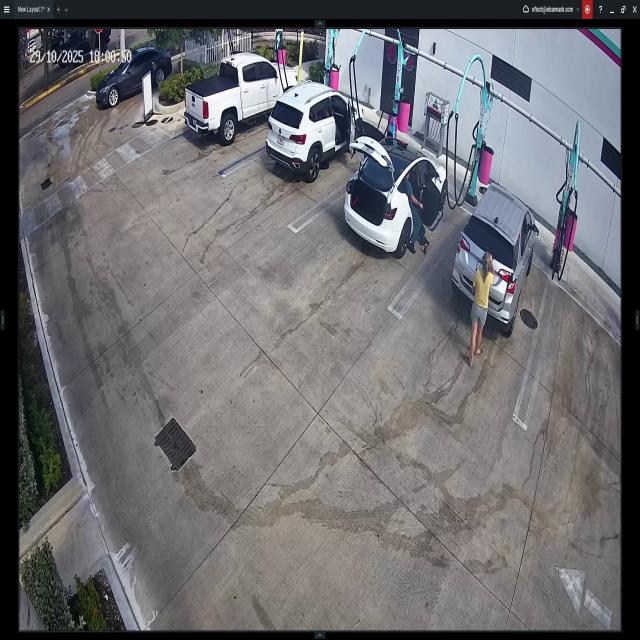Car: (454, 186, 535, 336), (345, 134, 444, 254), (184, 53, 300, 145), (268, 86, 364, 182), (96, 48, 170, 113)
